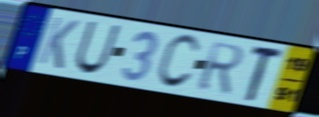3: (120, 28, 161, 84)
C: (154, 33, 202, 91)
K: (35, 14, 81, 72)
R: (195, 40, 247, 96)
T: (243, 46, 287, 104)
U: (73, 19, 123, 76)
